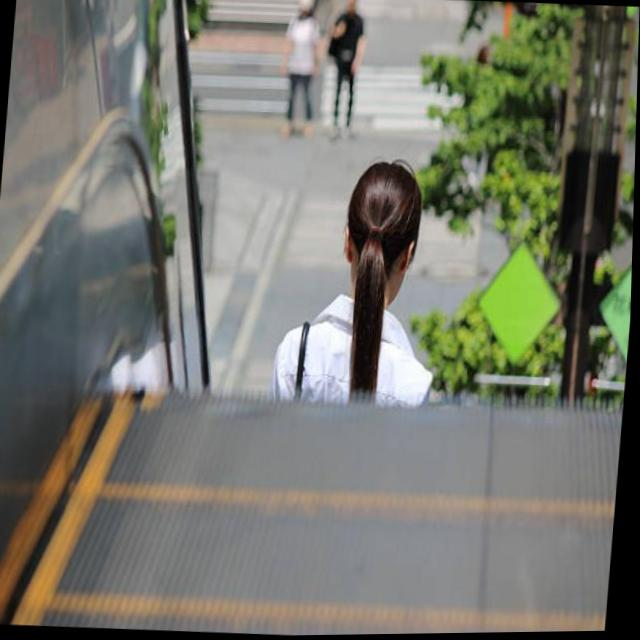no helmet: (334, 148, 445, 340)
